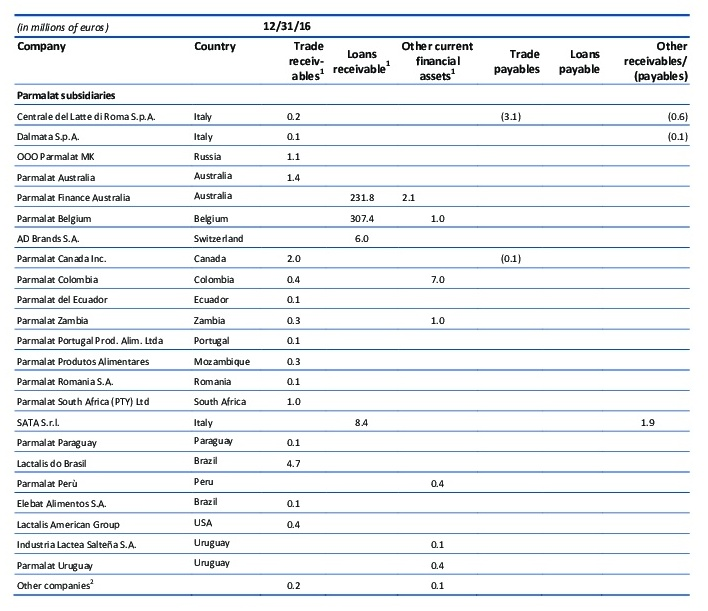table: (0, 0, 708, 611)
